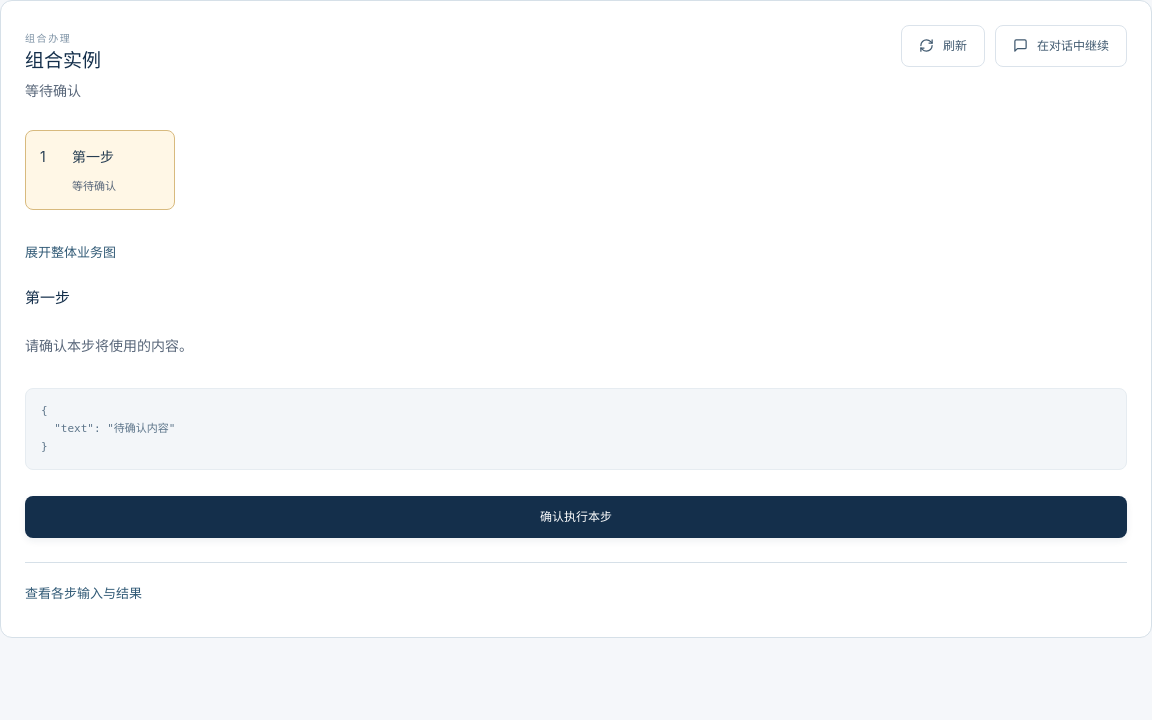
Scenario: confirms only the displayed step revision and hides content after revoked access
Click the button "确认执行本步" at coordinates (576, 517), box [25,496,1127,538]
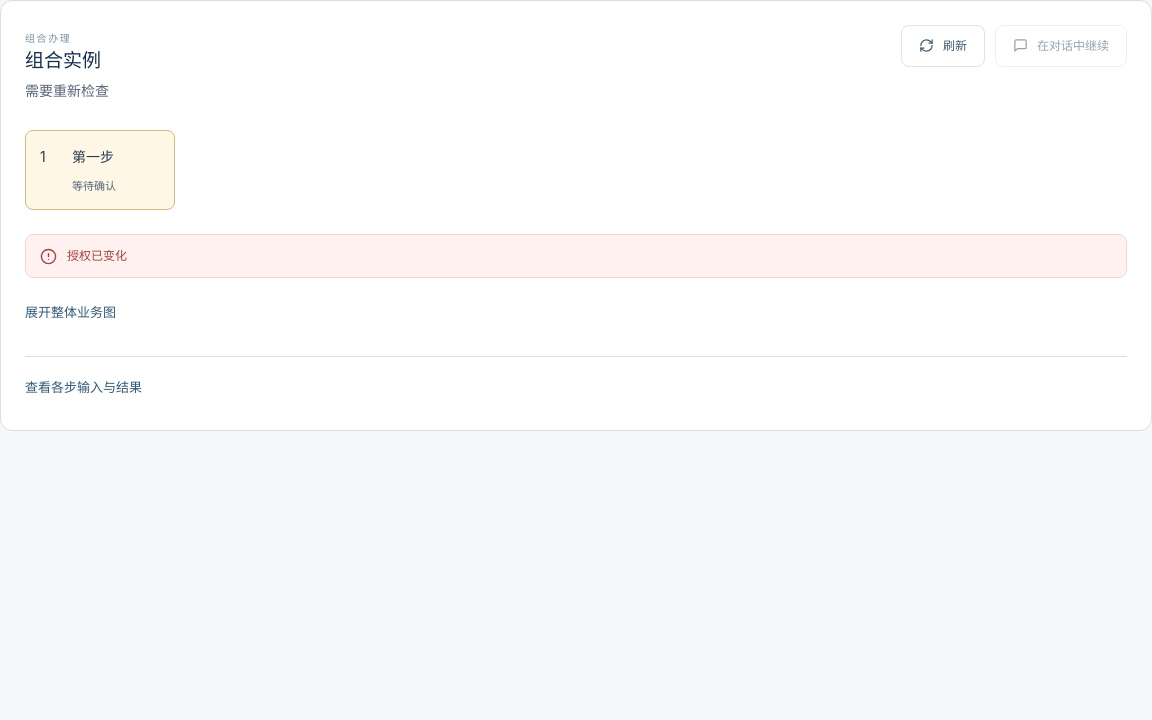
Expected: the text "授权已变化" is shown, [67,248,127,263]
Expected: the text "待确认内容" is gone
Expected: the button "确认执行本步" is gone
